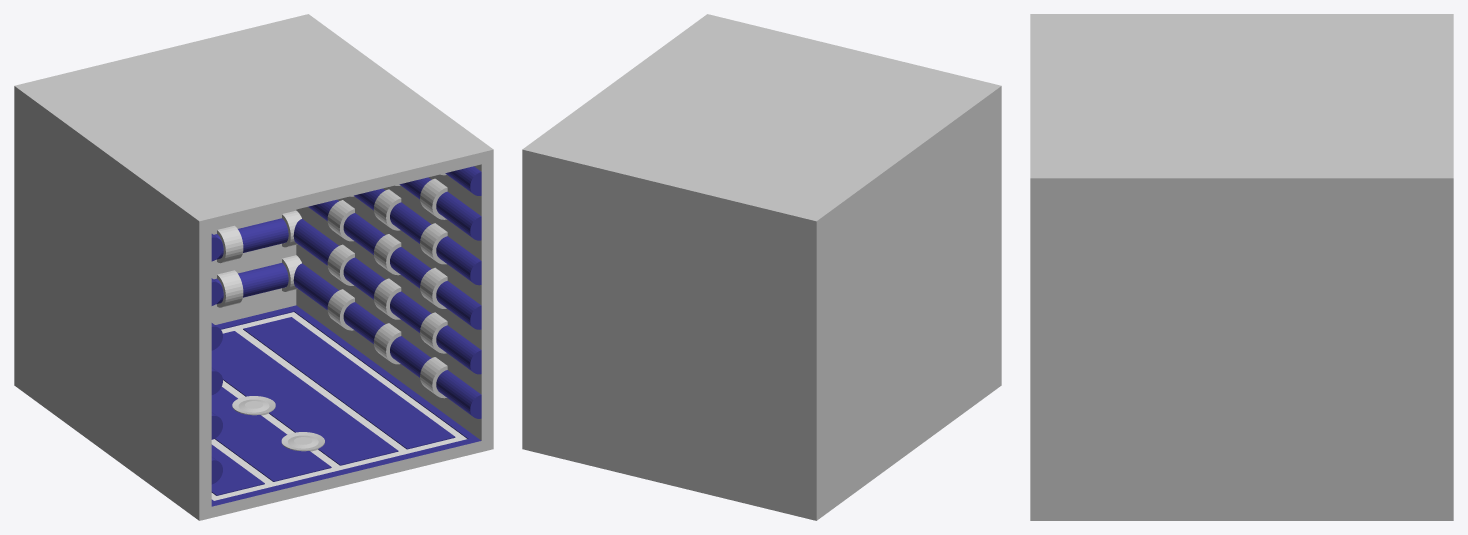
File: CorridorDeadEnd.fbx
3 views of the same model, side by side, from view 1: azimuth 30°, elevation 25°; view 2: azimuth 150°, elevation 25°; view 3: azimuth 270°, elevation 25° (orthographic). The views are drawn at different scales.
Visible parts, largest first — view 1: Cube; view 2: Cube; view 3: Cube.
Boxes of the visible parts, bbox=[...] form: Cube: bbox=[14, 14, 493, 520]; Cube: bbox=[522, 14, 1001, 520]; Cube: bbox=[1030, 14, 1453, 520].
Size of the model in its own units: 691 by 672 by 753.
